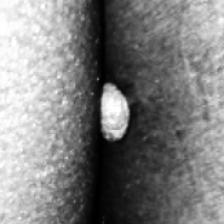Benign Marking or Mole: (95, 80, 134, 146)
